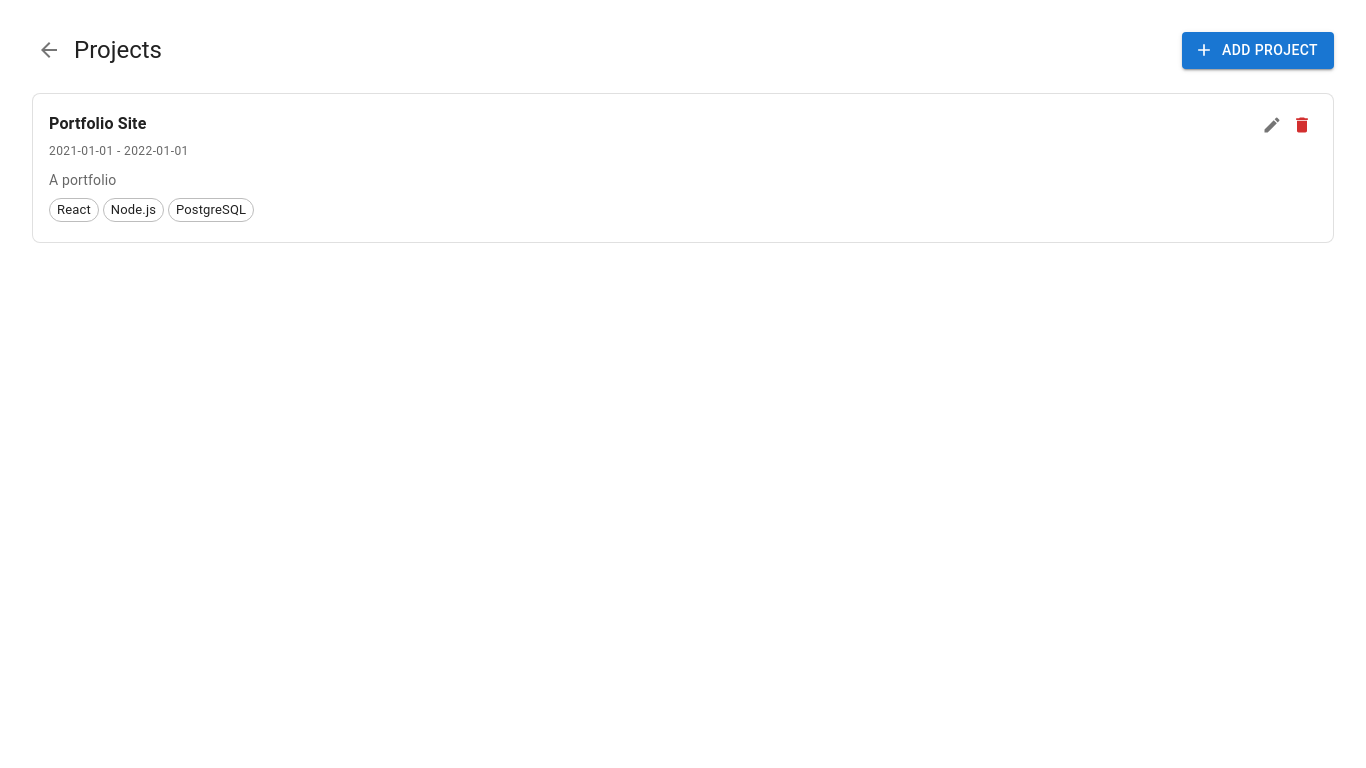
it: ProjectsPage › requires a project name before creating
Click the button "Add Project" at (1258, 50), box top-left (1182, 32), bottom-right (1334, 68)
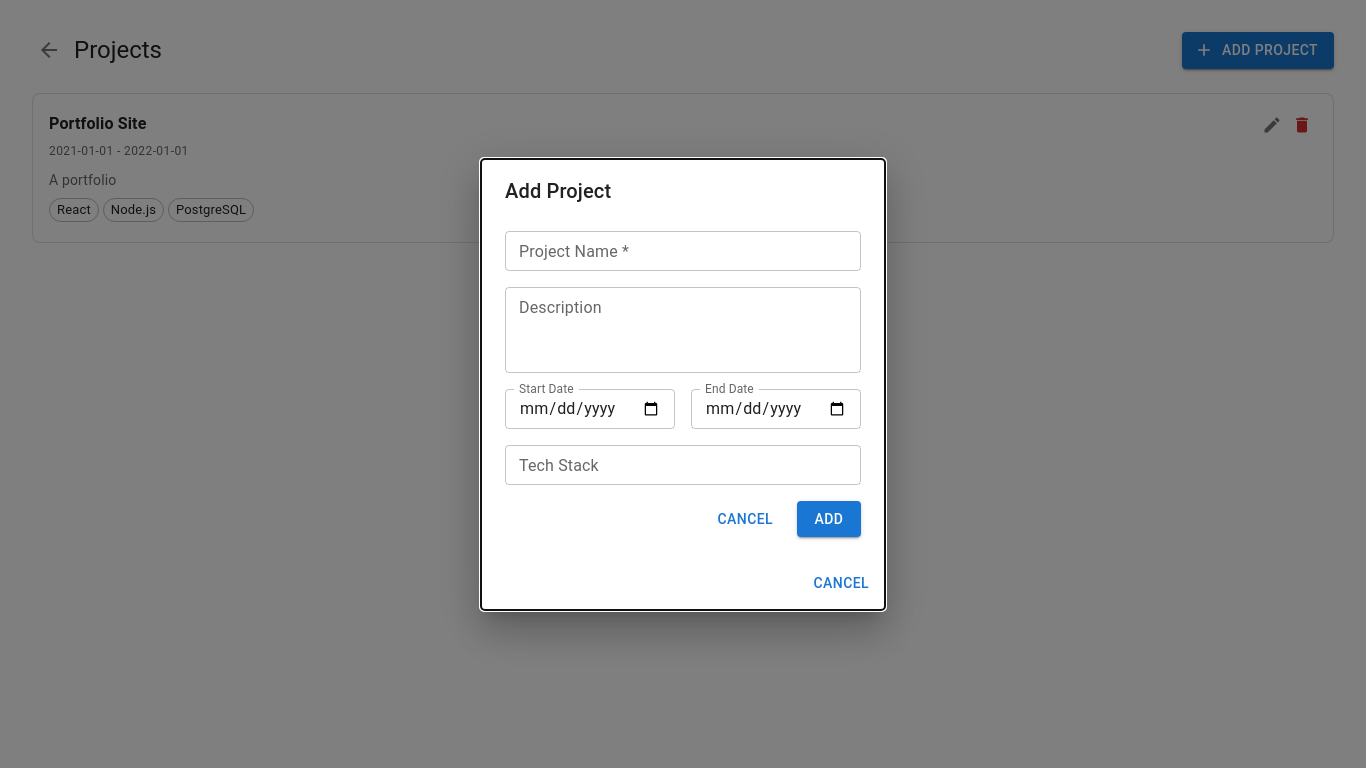
Click the button "Add" at (829, 519), box top-left (797, 500), bottom-right (861, 537)
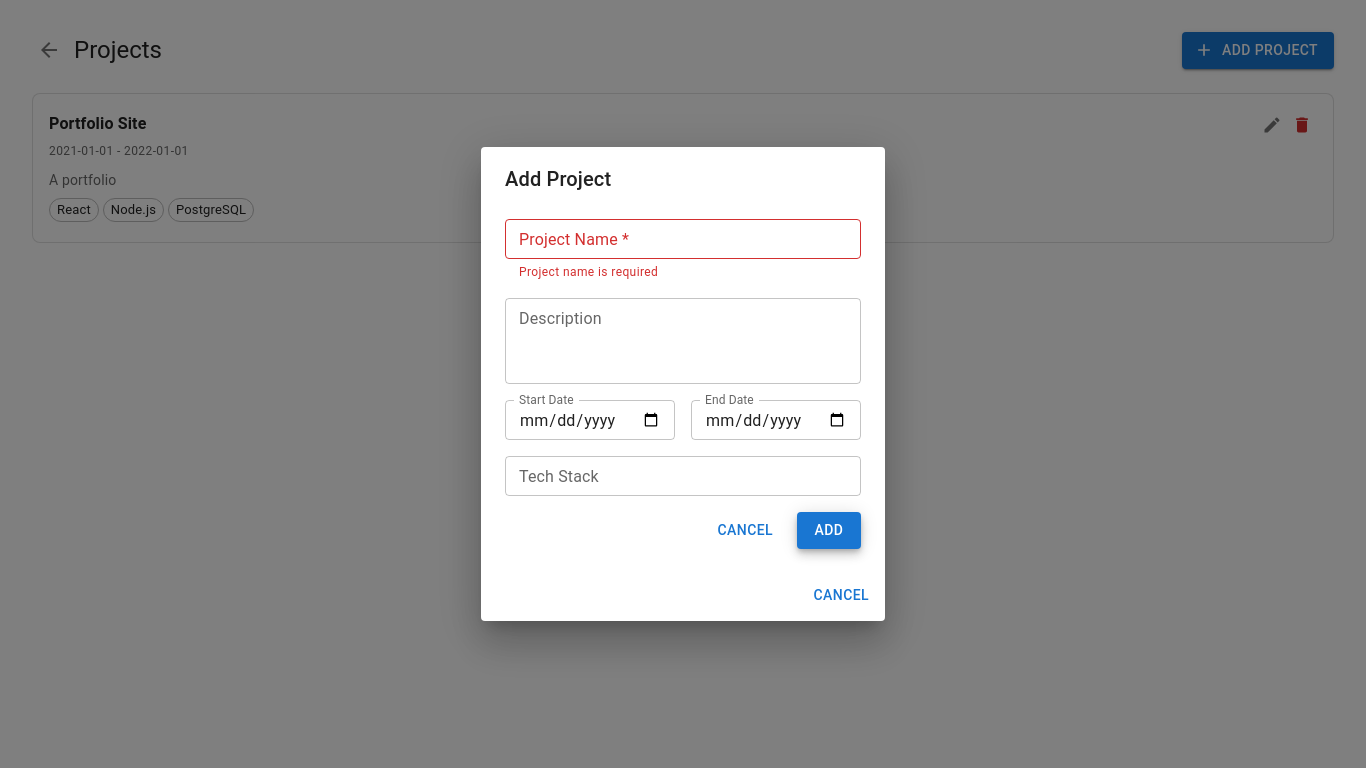
Now the text "Project name is required" is shown, box top-left (519, 264), bottom-right (658, 278)
